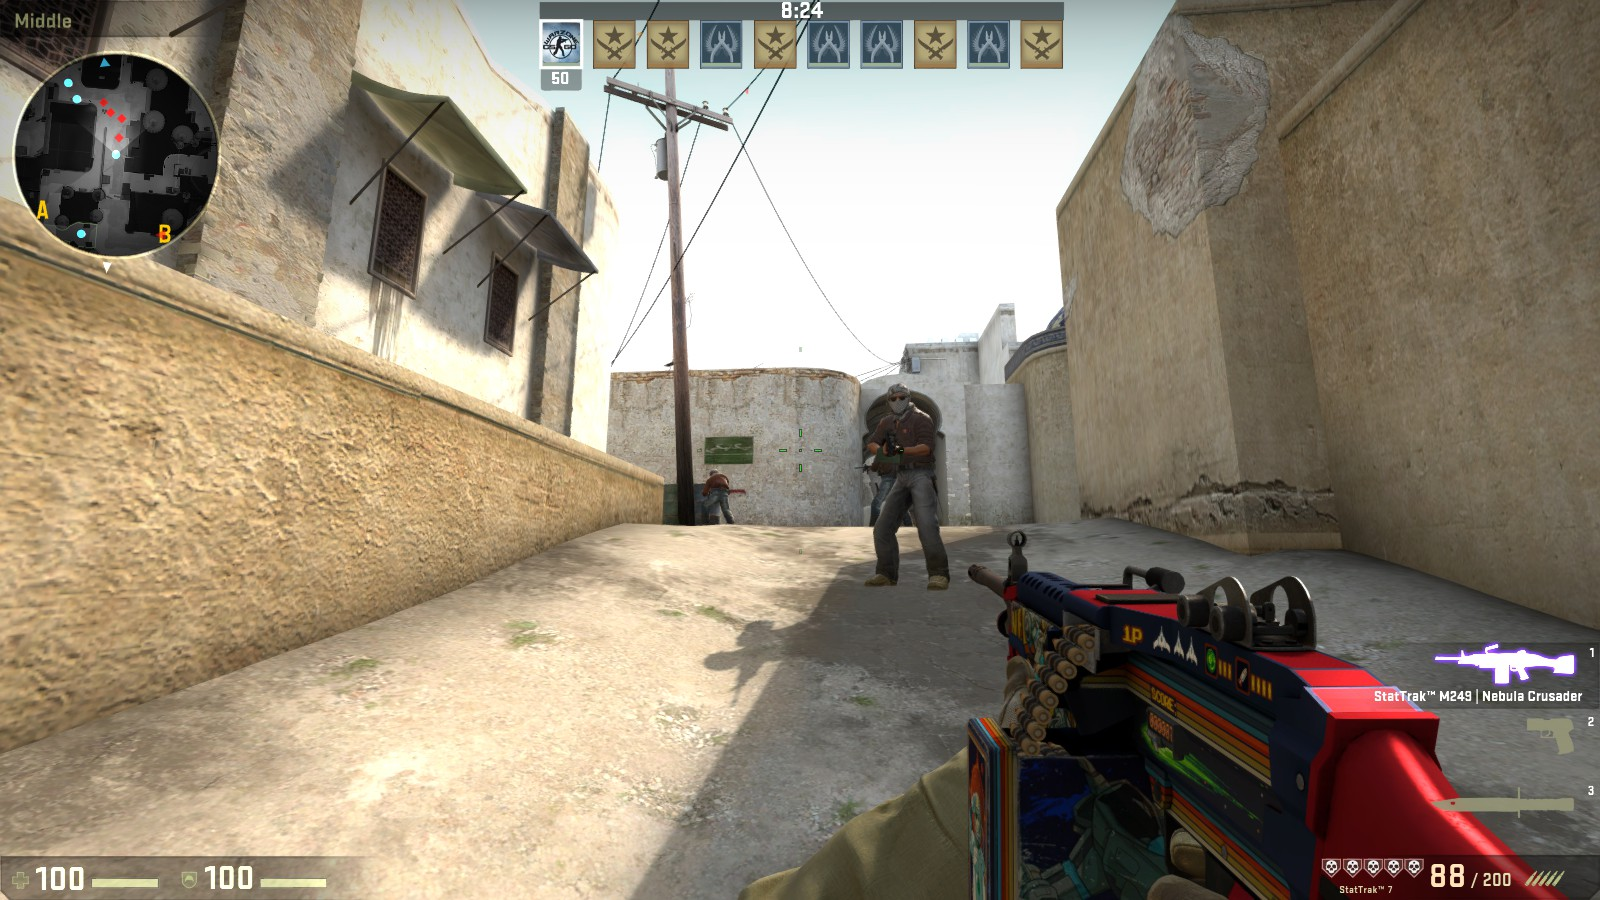t: (864, 384, 941, 591), (701, 467, 733, 527)
th: (882, 384, 914, 418), (709, 469, 723, 478)
